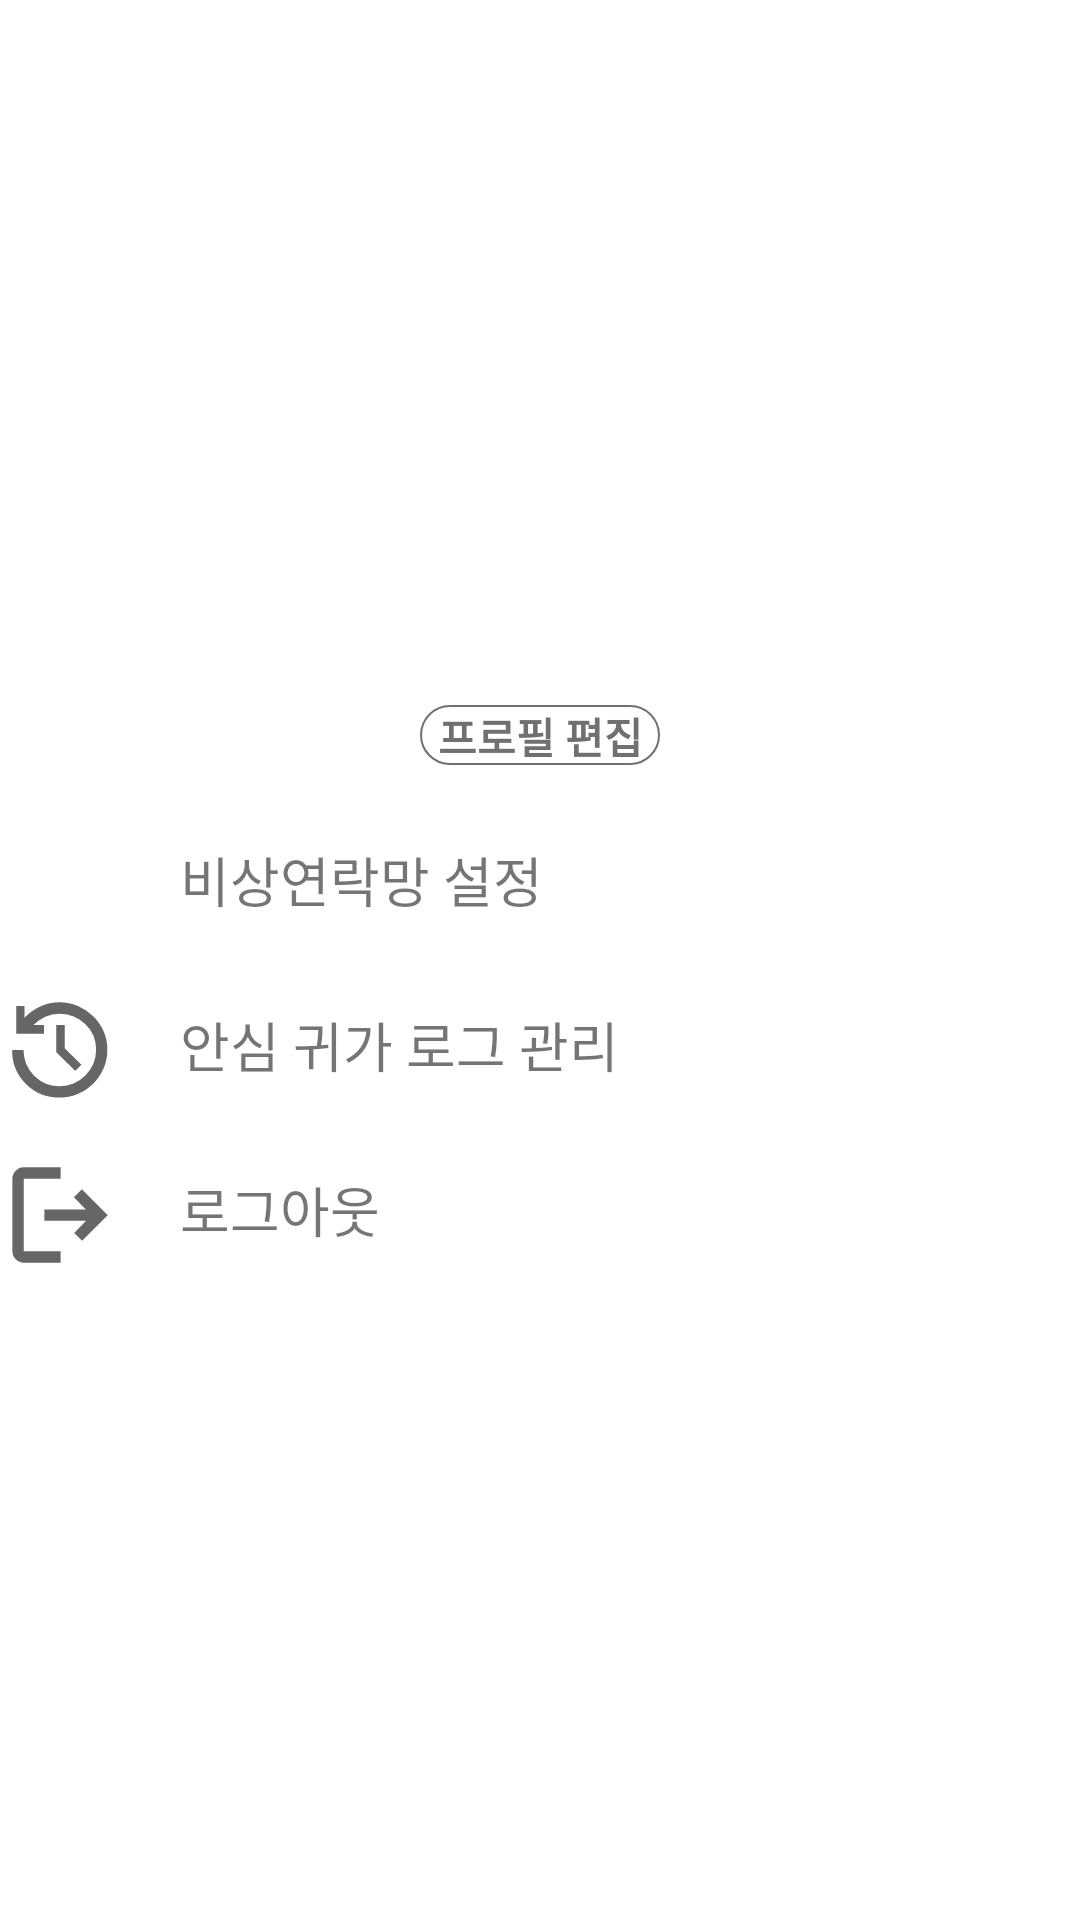

Icons on this 1080 x 1920 Android screen, each with the point to tap as point (x, y):
history: point (60, 1050)
